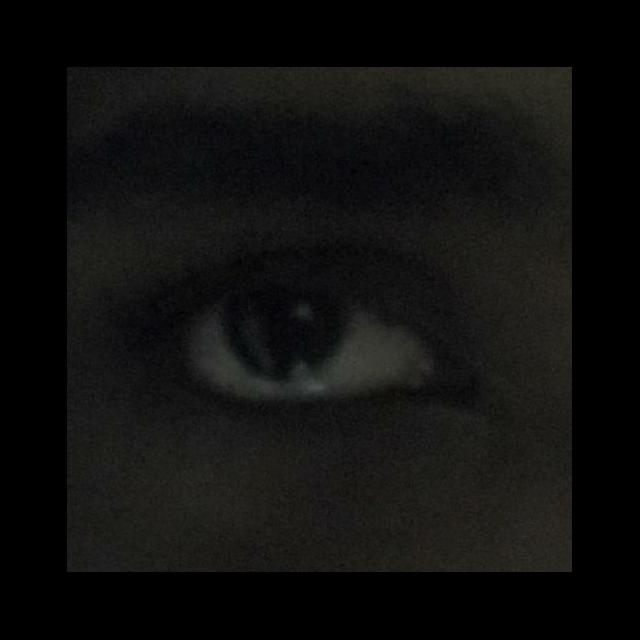eye: (185, 289, 429, 403)
iris: (226, 294, 350, 382)
